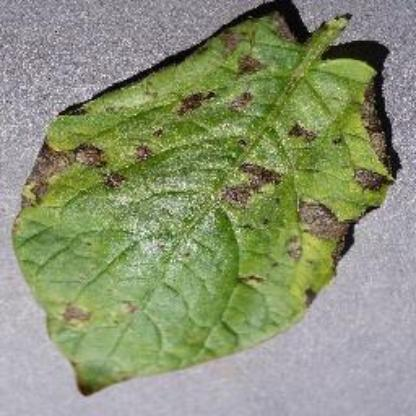Early-Blight: (8, 0, 412, 402)
